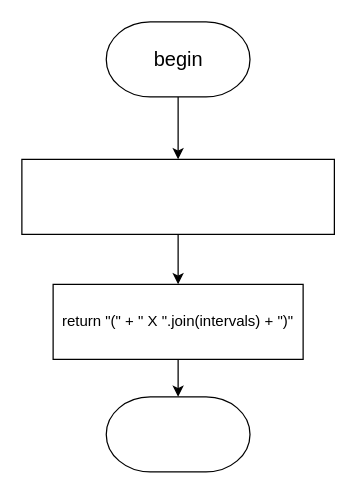
The diagram is 356 pixels wide and 494 high, and some of its shapes have lost their labels. Each missing label, with the centre of its shape:
end: [177,434]
intervals = [str(solution[x_id]) for x_id in x_ids]: [177,196]
